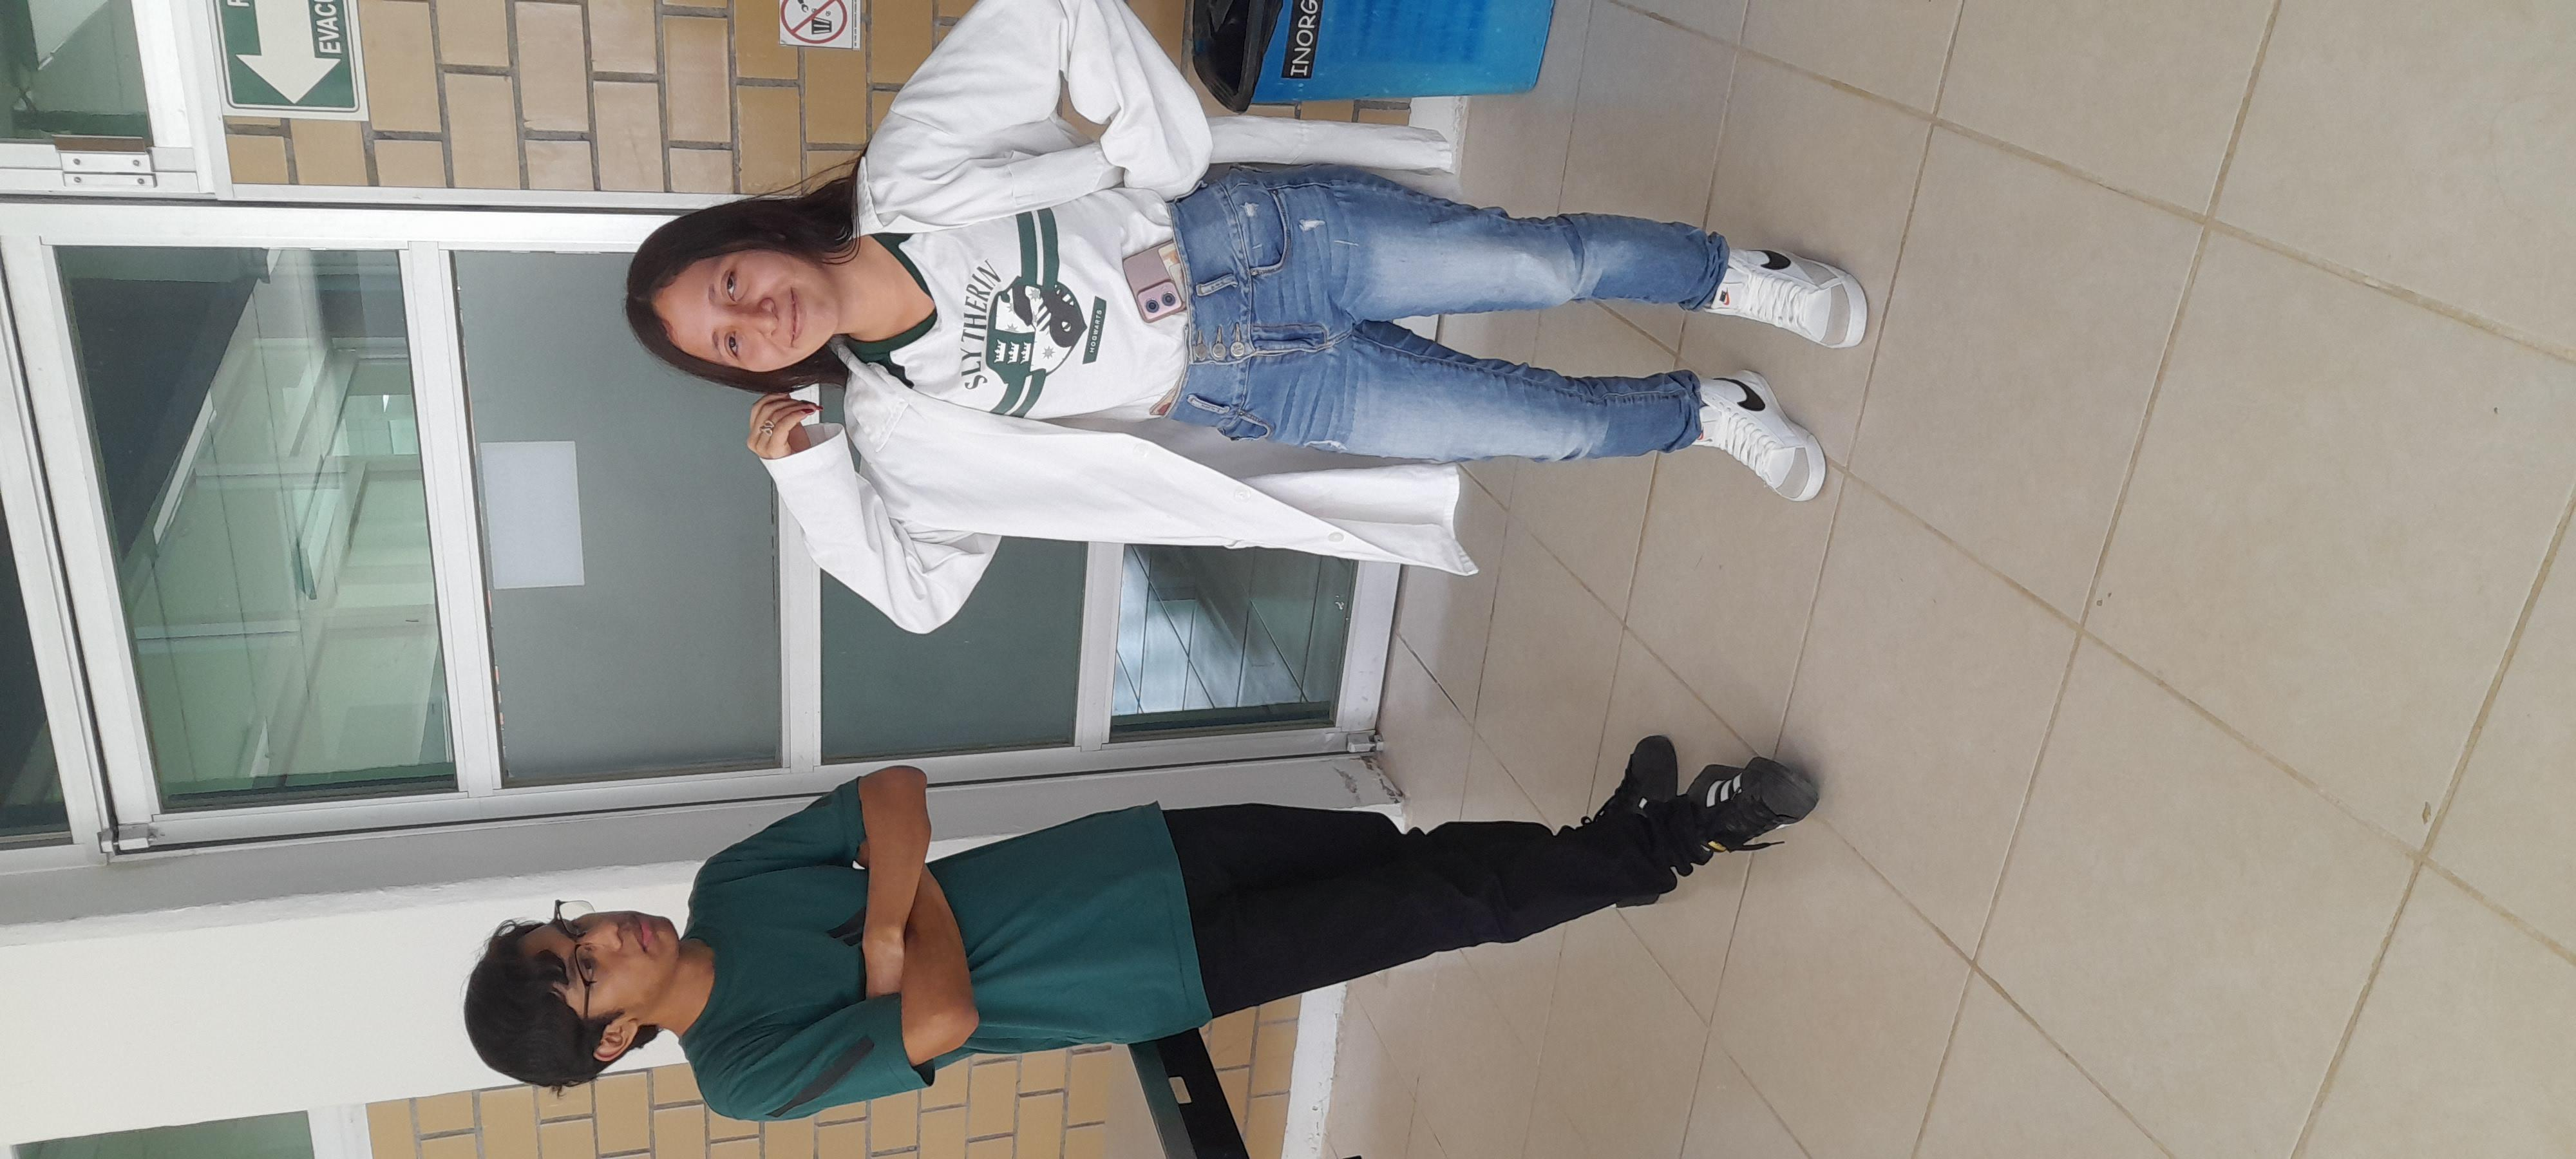Bata-Incorrecta: (1145, 264, 2561, 864)
